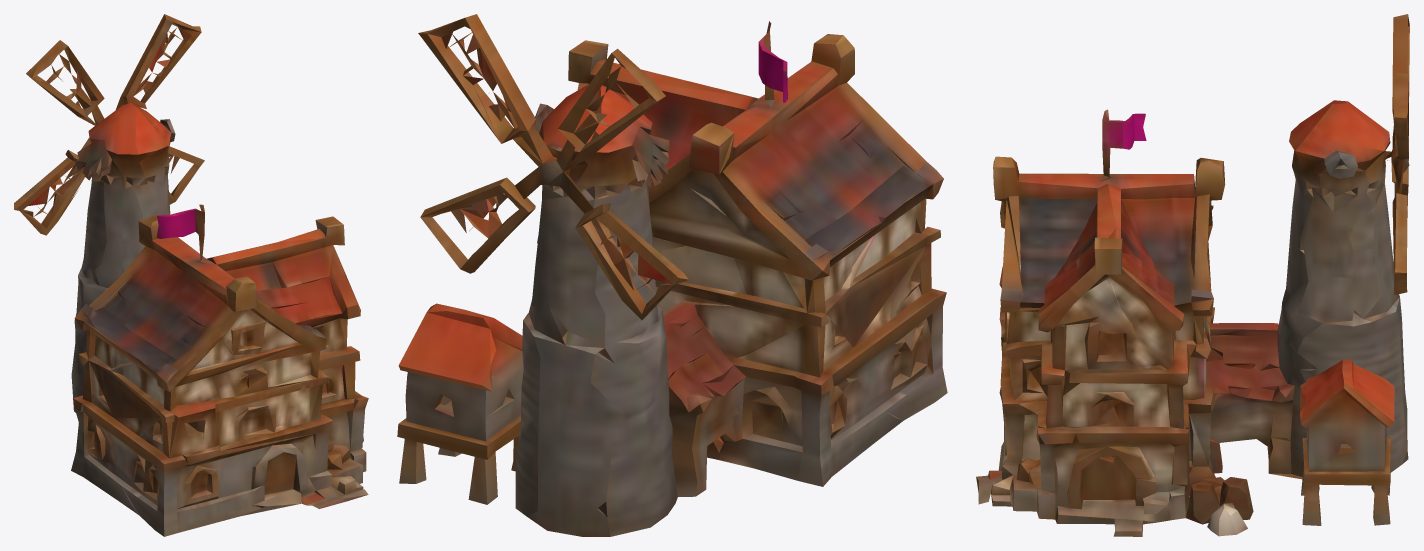
Rendered from farm3.lod2.glb.
3 views of the same model, side by side, from view 1: azimuth 30°, elevation 25°; view 2: azimuth 150°, elevation 25°; view 3: azimuth 270°, elevation 25° (orthographic). The views are drawn at different scales.
Parts seen in each view (by area): view 1: farm3.lod2_uv; view 2: farm3.lod2_uv; view 3: farm3.lod2_uv.
Part boxes in pixels (<box>): farm3.lod2_uv: <box>14,14,368,536</box>; farm3.lod2_uv: <box>397,14,947,536</box>; farm3.lod2_uv: <box>976,14,1409,536</box>.
Size of the model in its own units: 1.4 by 1.89 by 1.77.
Materials: 1 (1 with a texture image).
